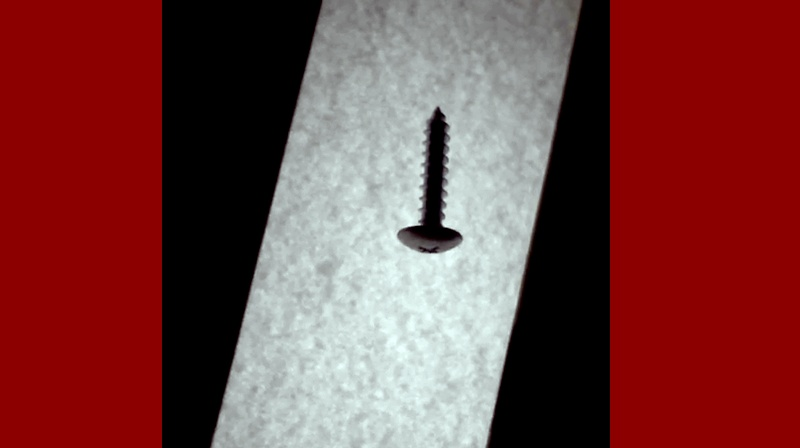S003: (395, 100, 466, 257)
